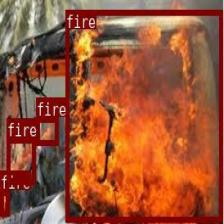fire: (65, 9, 222, 221), (6, 137, 35, 183), (36, 116, 58, 144), (0, 189, 8, 214)
